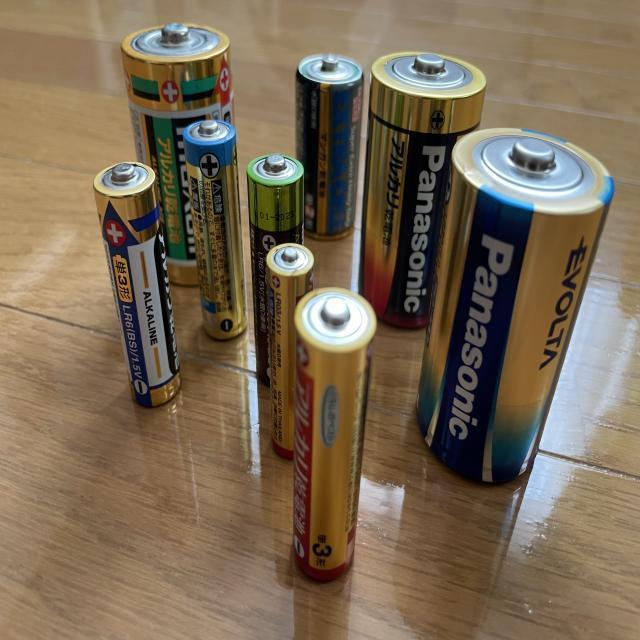battery: (414, 126, 616, 484), (359, 53, 489, 332), (120, 19, 242, 287), (289, 277, 379, 585), (93, 157, 185, 413), (245, 148, 310, 389), (289, 51, 367, 247), (183, 121, 249, 343), (266, 240, 317, 466)
